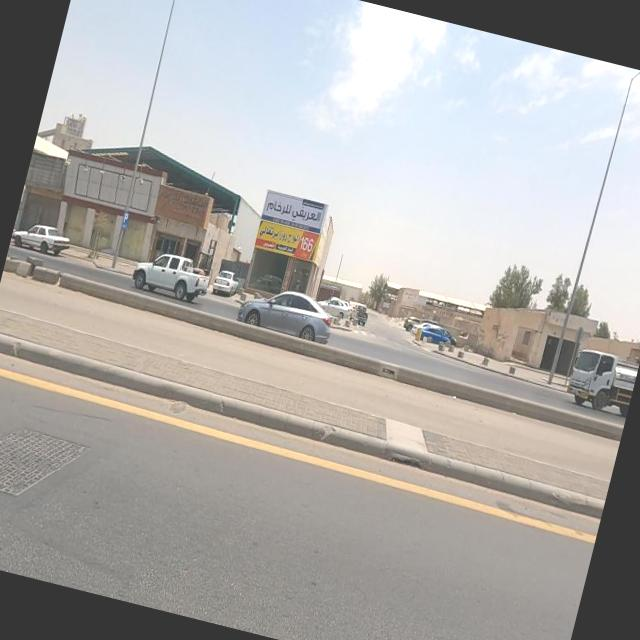debris: (102, 128, 264, 282)
